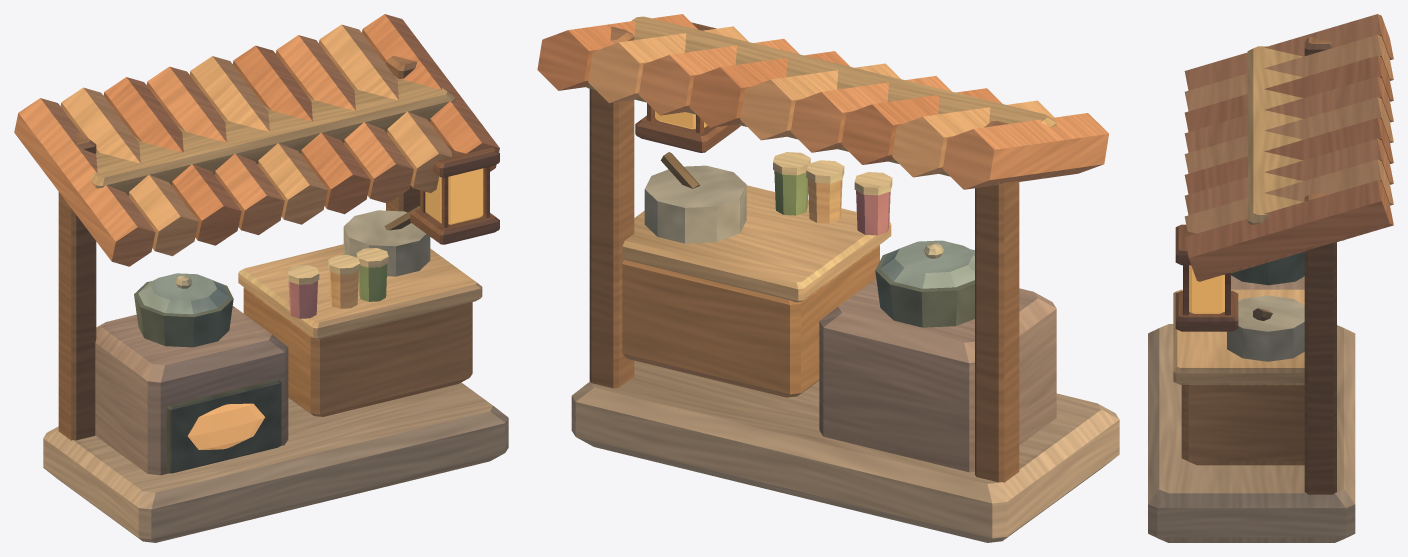
File: farm_kitchen.glb
The picture shows the model from 3 angles, left to right: view 1: azimuth 30°, elevation 25°; view 2: azimuth 150°, elevation 25°; view 3: azimuth 270°, elevation 25°; orthographic projection. The views are drawn at different scales.
Visible parts, largest first — view 1: Hofküche · Herd, Einkochen und Handmühle; view 2: Hofküche · Herd, Einkochen und Handmühle; view 3: Hofküche · Herd, Einkochen und Handmühle.
Boxes of the visible parts, x1,y1,x2,y2 form: Hofküche · Herd, Einkochen und Handmühle: (14,14,508,542); Hofküche · Herd, Einkochen und Handmühle: (537,14,1119,542); Hofküche · Herd, Einkochen und Handmühle: (1148,14,1393,542).
Bounding box in the file's own units: 2.16 × 1.96 × 1.21.
4 materials, 3 textured.
